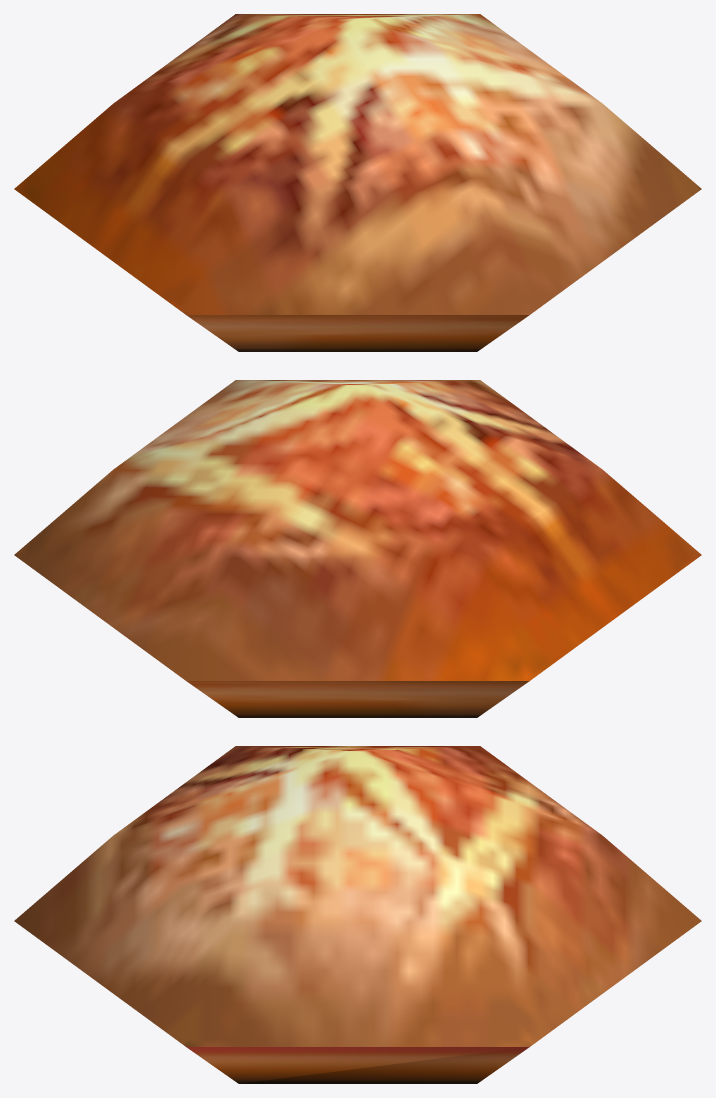
Rendered from food_bread.glb.
3 renders of one model, top to bottom at view 1: azimuth 30°, elevation 25°; view 2: azimuth 150°, elevation 25°; view 3: azimuth 270°, elevation 25°, orthographic.
Visible parts, largest first — view 1: bread_01.001; view 2: bread_01.001; view 3: bread_01.001.
Boxes of the visible parts, x1,y1,x2,y2 form: bread_01.001: (14, 14, 701, 351); bread_01.001: (14, 380, 701, 717); bread_01.001: (14, 746, 701, 1083).
Size of the model in its own units: 45 by 20.42 by 51.96.
1 material, 1 textured.
